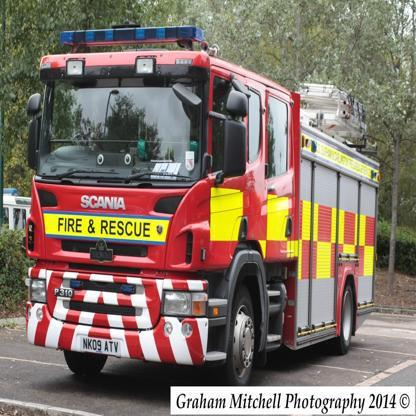fire-truck: (17, 11, 399, 392)
